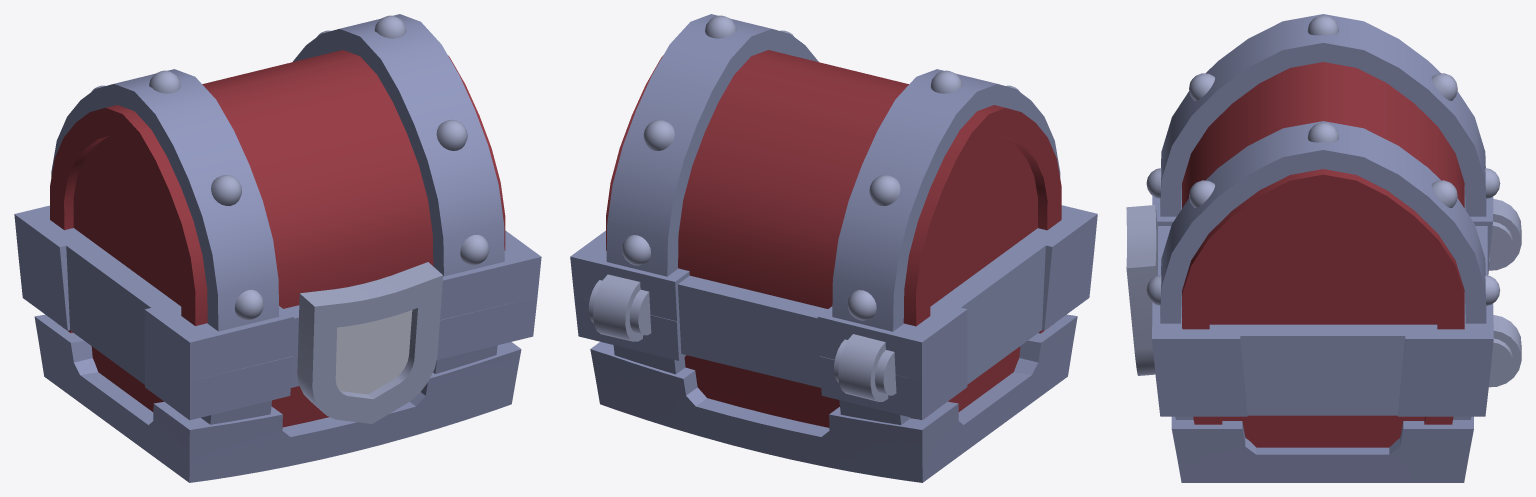
Rendered from Chest D Multi.fbx.
3 views of the same model, side by side, from view 1: azimuth 30°, elevation 25°; view 2: azimuth 150°, elevation 25°; view 3: azimuth 270°, elevation 25° (orthographic). The views are drawn at different scales.
Parts seen in each view (by area): view 1: Chest D Cover, Chest D, Chest D Icon; view 2: Chest D Cover, Chest D; view 3: Chest D Cover, Chest D, Chest D Icon.
Boxes of the visible parts, x1,y1,x2,y2 form: Chest D Cover: (14, 14, 541, 381); Chest D: (18, 256, 537, 482); Chest D Icon: (297, 262, 443, 423); Chest D Cover: (570, 14, 1097, 401); Chest D: (574, 256, 1093, 482); Chest D Cover: (1146, 14, 1521, 387); Chest D: (1156, 255, 1489, 482); Chest D Icon: (1126, 205, 1157, 375).
Size of the model in its own units: 2.89 by 2.78 by 2.89.
